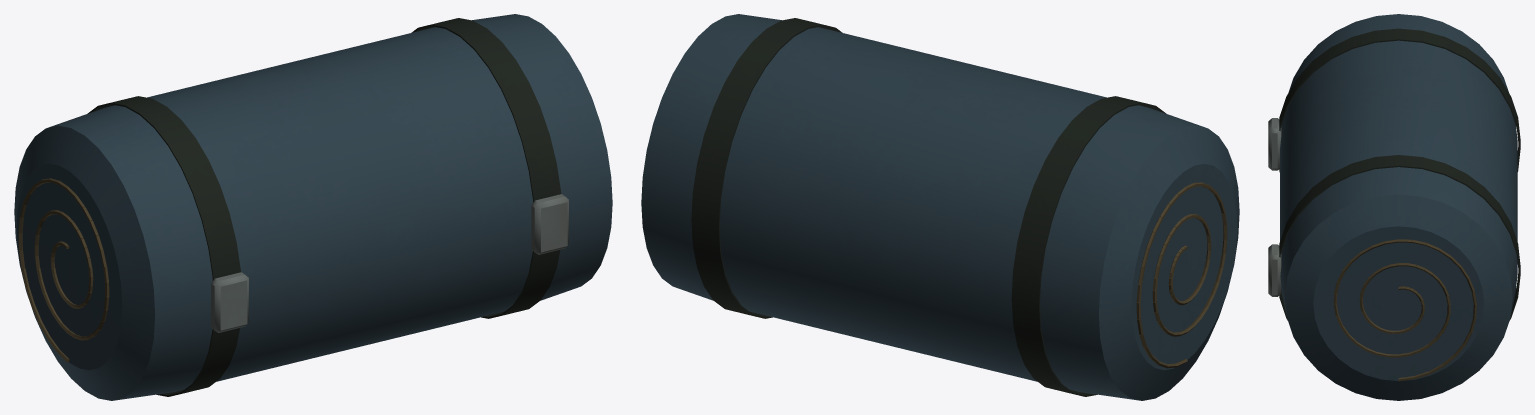
Rendered from level_camp_bedroll_rolled_authored.glb.
3 views of the same model, side by side, from view 1: azimuth 30°, elevation 25°; view 2: azimuth 150°, elevation 25°; view 3: azimuth 270°, elevation 25° (orthographic). The views are drawn at different scales.
Visible parts, largest first — view 1: level_camp_bedroll_rolled_authored; view 2: level_camp_bedroll_rolled_authored; view 3: level_camp_bedroll_rolled_authored.
Boxes of the visible parts, x1,y1,x2,y2 form: level_camp_bedroll_rolled_authored: [14, 14, 612, 400]; level_camp_bedroll_rolled_authored: [641, 14, 1239, 400]; level_camp_bedroll_rolled_authored: [1268, 14, 1520, 400].
Size of the model in its own units: 0.649 by 0.342 by 0.354.
1 material, 1 textured.
